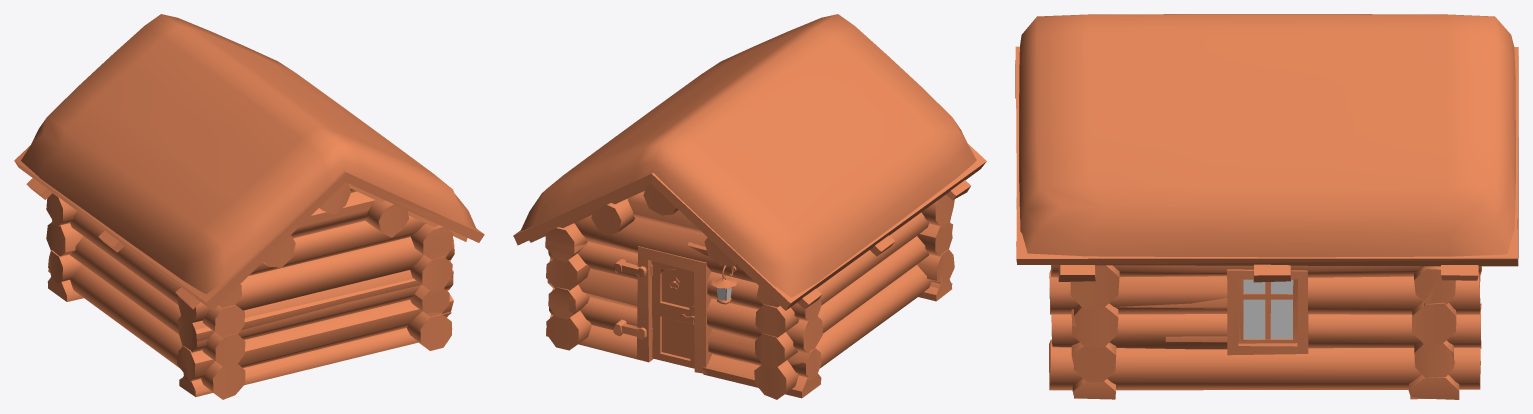
Rendered from winter_house_night.fbx.
3 views of the same model, side by side, from view 1: azimuth 30°, elevation 25°; view 2: azimuth 150°, elevation 25°; view 3: azimuth 270°, elevation 25° (orthographic). The views are drawn at different scales.
Visible parts, largest first — view 1: snow_roof, House; view 2: snow_roof, House, Door, Lamp; view 3: snow_roof, House.
Part boxes in pixels (left/top/right/bottom): snow_roof: left=21, top=14, right=476, bottom=293; House: left=14, top=145, right=484, bottom=399; snow_roof: left=520, top=14, right=976, bottom=297; House: left=513, top=143, right=986, bottom=399; Door: left=650, top=261, right=694, bottom=368; Lamp: left=711, top=265, right=736, bottom=304; snow_roof: left=1019, top=14, right=1515, bottom=257; House: left=1015, top=46, right=1518, bottom=399.
Bounding box in the file's own units: 609 × 487 × 726.
